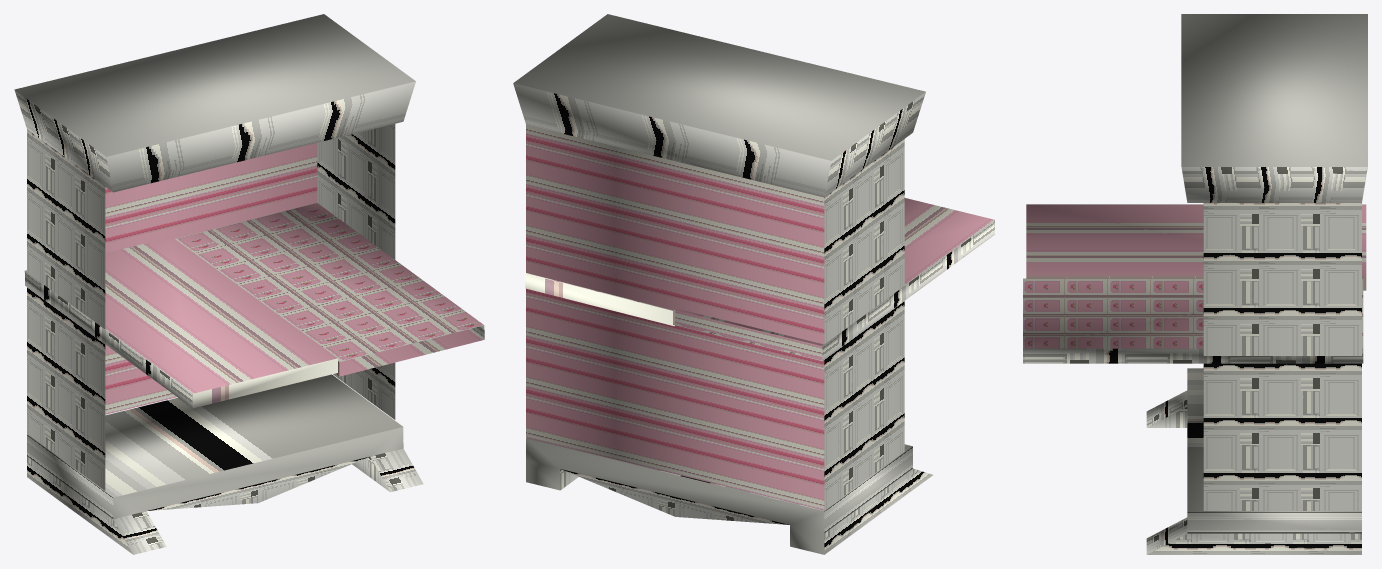
File: 3074IMRL05_02.gltf
3 views of the same model, side by side, from view 1: azimuth 30°, elevation 25°; view 2: azimuth 150°, elevation 25°; view 3: azimuth 270°, elevation 25° (orthographic). The views are drawn at different scales.
Parts seen in each view (by area): view 1: 3074IMRL05_02; view 2: 3074IMRL05_02; view 3: 3074IMRL05_02.
Part boxes in pixels (x1,y1,x2,y2): 3074IMRL05_02: (14,14,484,554); 3074IMRL05_02: (513,14,994,554); 3074IMRL05_02: (1023,14,1367,554).
Bounding box in the file's own units: 1.65 × 1.97 × 1.57.
Materials: 2 (2 with a texture image).
